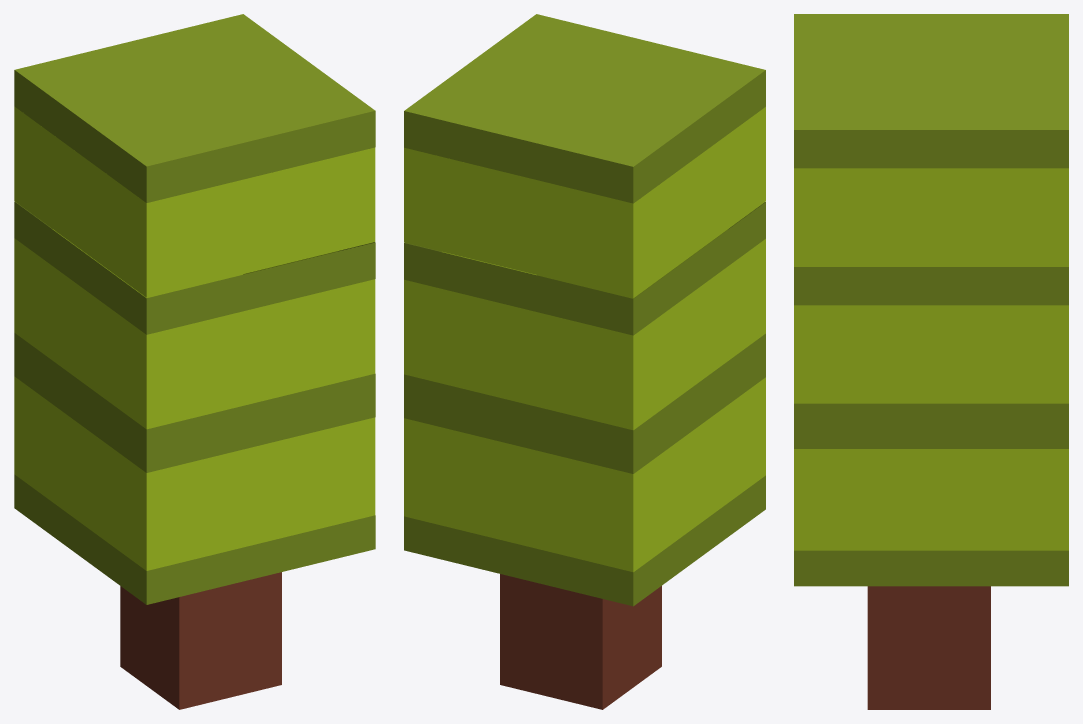
File: tree-tall.glb
The picture shows the model from 3 angles, left to right: view 1: azimuth 30°, elevation 25°; view 2: azimuth 150°, elevation 25°; view 3: azimuth 270°, elevation 25°; orthographic projection. The views are drawn at different scales.
Parts seen in each view (by area): view 1: Cube.098; view 2: Cube.098; view 3: Cube.098.
Part boxes in pixels (left/top/right/bottom): Cube.098: left=14, top=14, right=375, bottom=709; Cube.098: left=404, top=14, right=765, bottom=709; Cube.098: left=794, top=14, right=1068, bottom=709.
Size of the model in its own units: 4.46 by 10.91 by 4.46.
